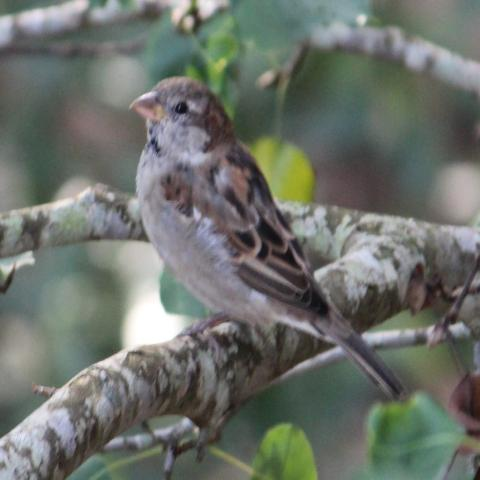bird: (126, 73, 407, 403)
